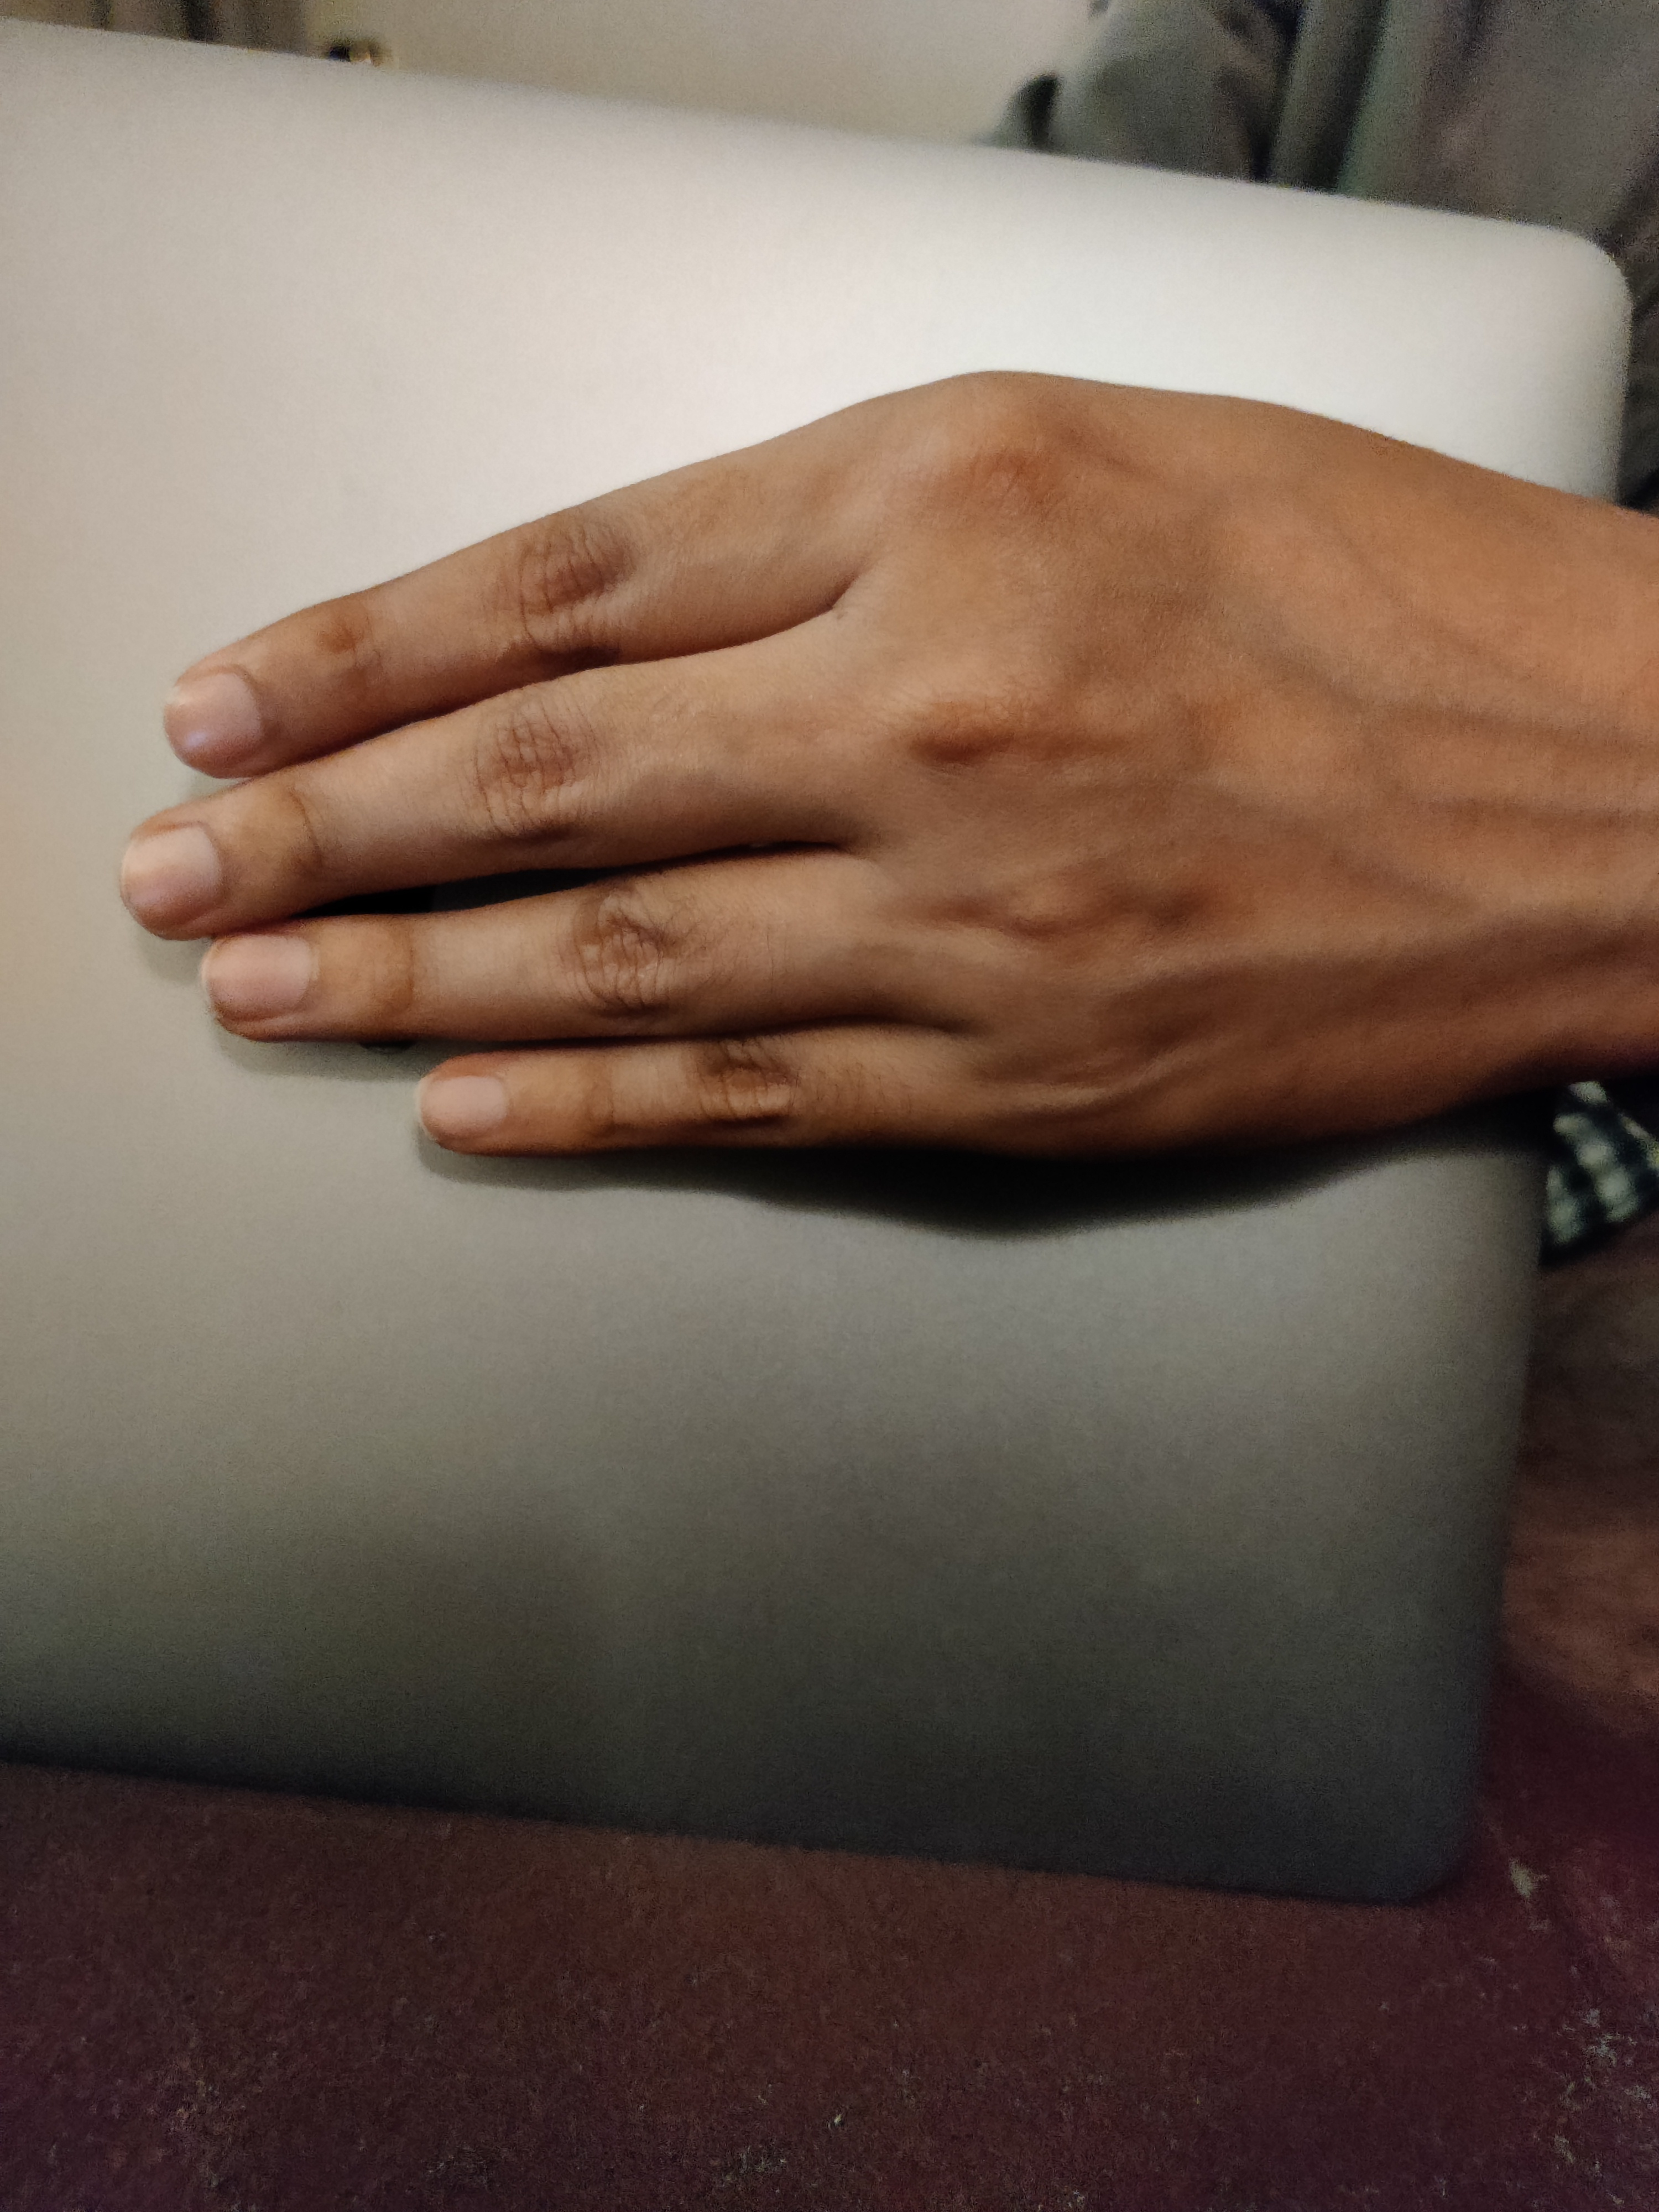right: (16, 167, 1633, 1371)
